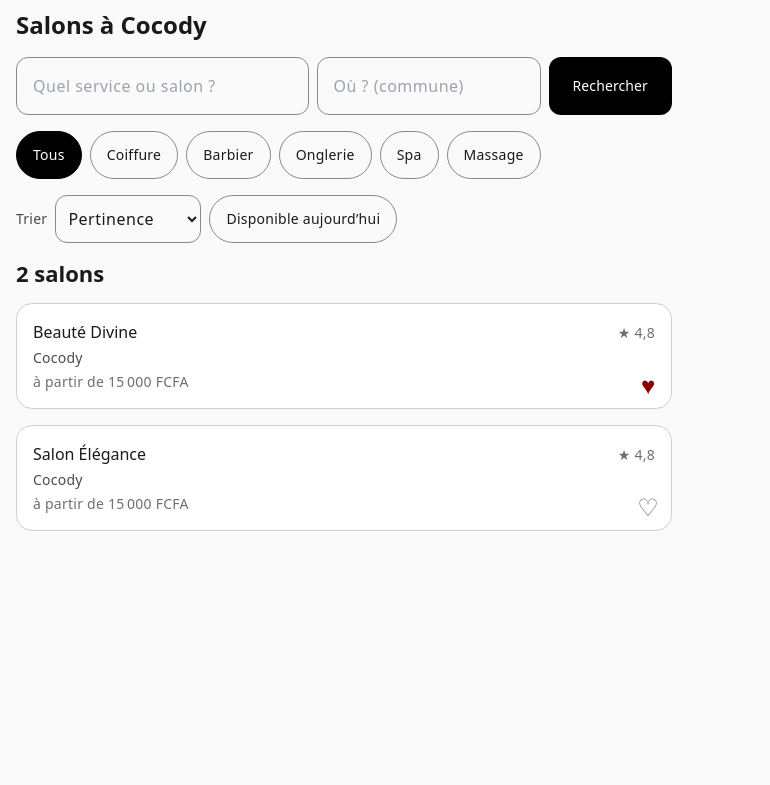
Scenario: B5.4 — the search ♥ says what it did › removing: « Retiré des favoris »
The width and height of the screenshot is (770, 785).
Click the button named "Retirer Beauté Divine des favoris": (648, 385) [624,361,672,409]
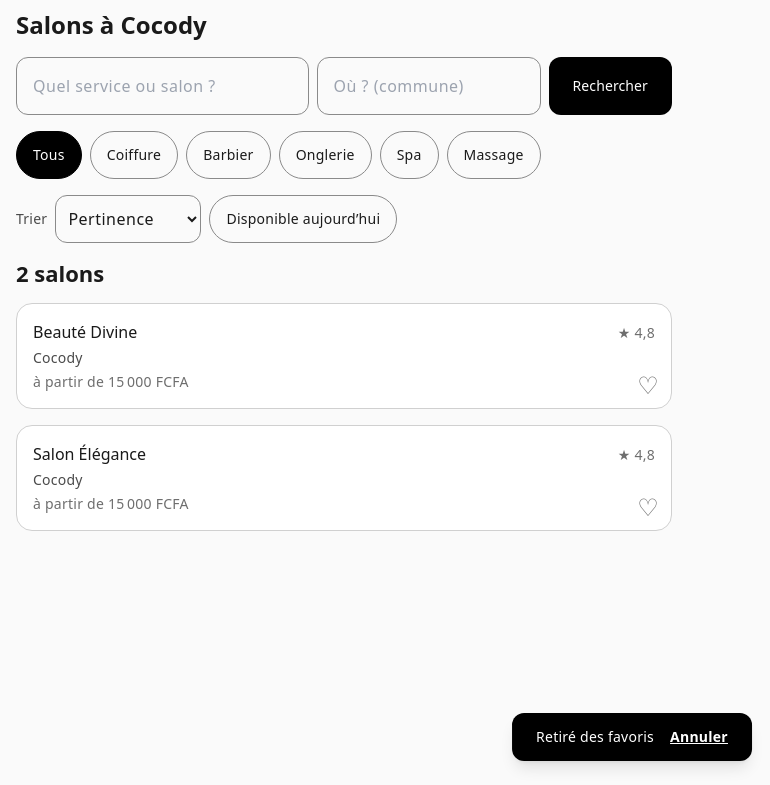
Now the text "Retiré des favoris" is shown, box [536,727,654,746]
